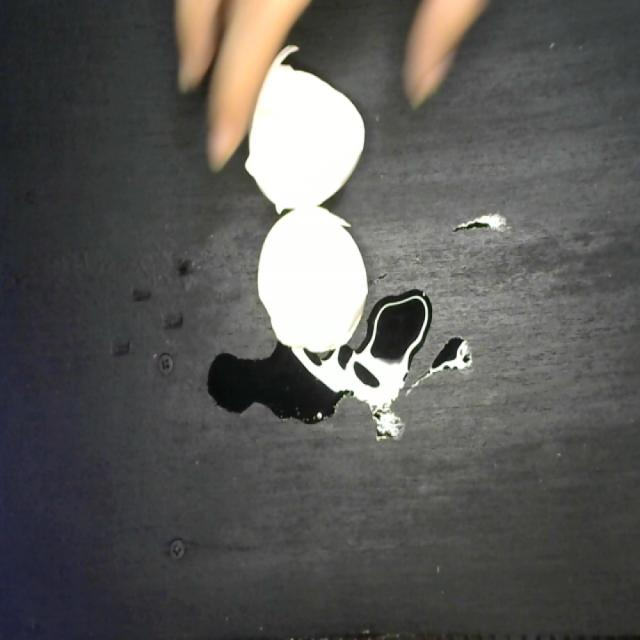biodegradable: (255, 205, 371, 356)
